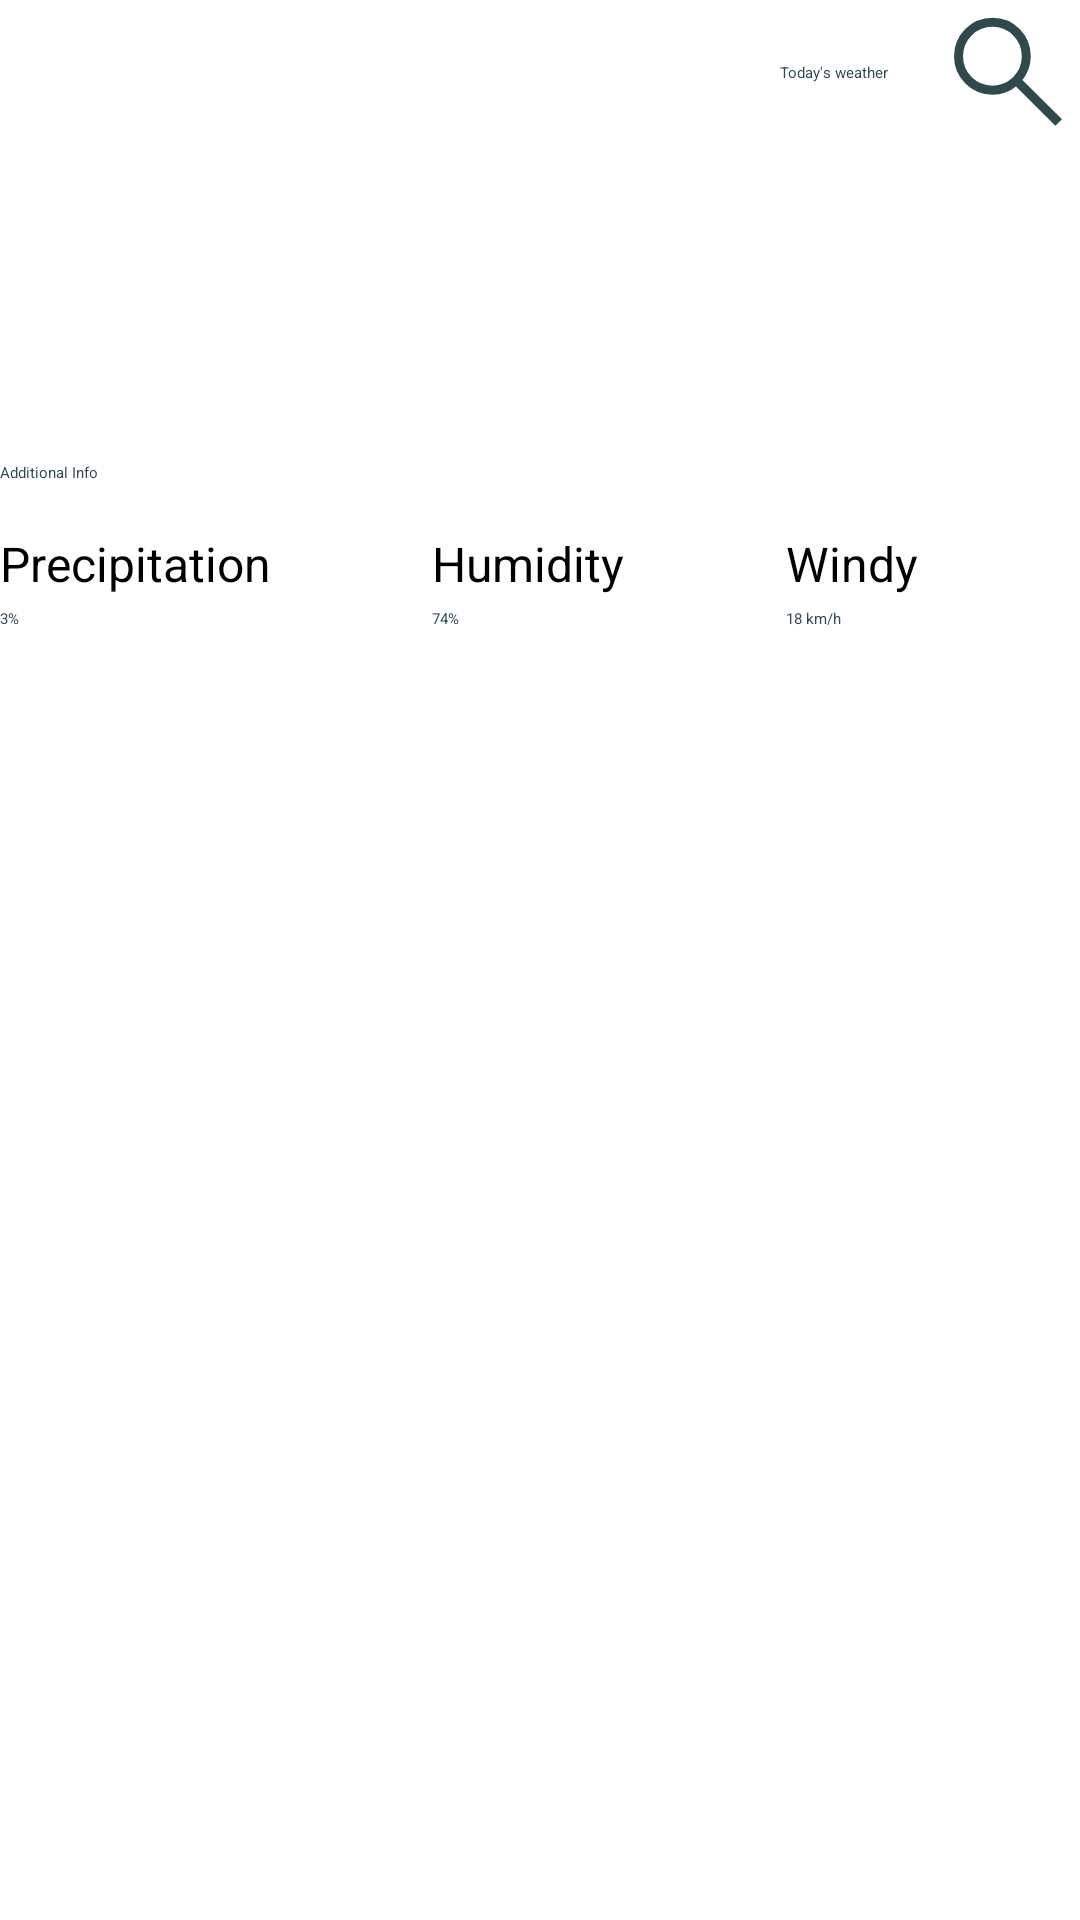

Named icons in this screenshot (1080×1920) and their bounding boxes, region(x1, y1, x2, y2):
search: region(954, 17, 1062, 126)
